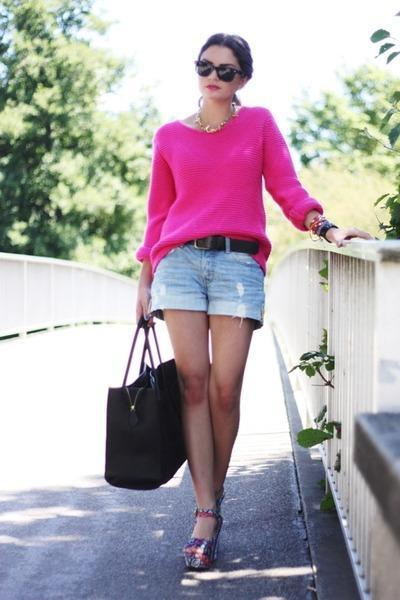bag: (105, 359, 190, 489)
shirt: (138, 107, 322, 271)
shoe: (179, 492, 225, 572)
shorts: (151, 242, 265, 321)
sunglass: (196, 46, 228, 81)
